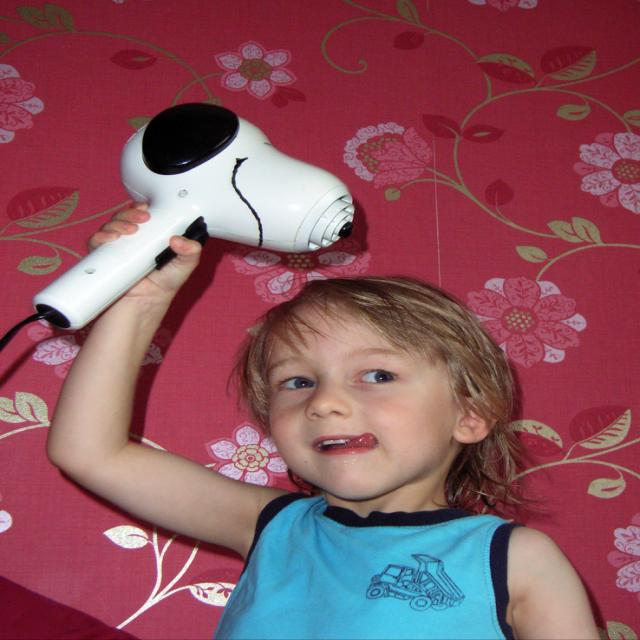dryer: (16, 89, 388, 349)
